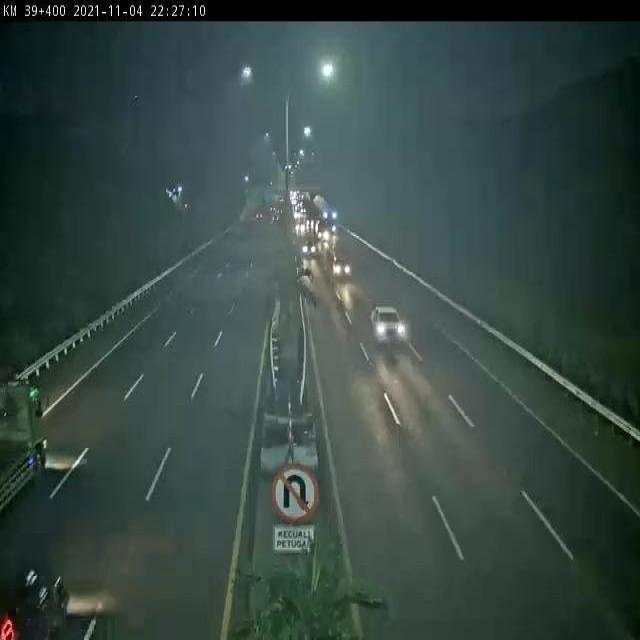car: (370, 304, 402, 341), (331, 258, 350, 278)
